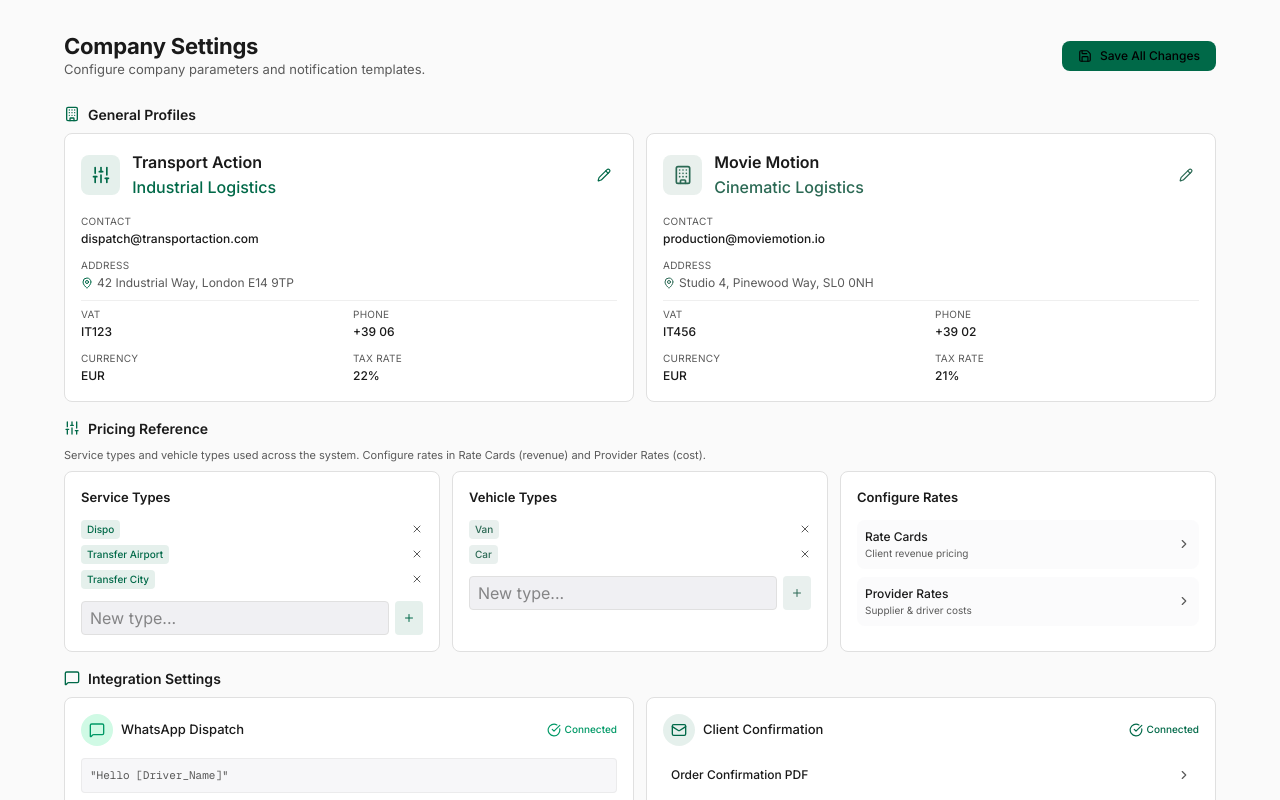
Test: CompanySettingsScreen › company edit modal closes on Cancel
This screenshot has width=1280, height=800.
expect the button "Save All Changes" is shown: met, box top-left (1062, 41), bottom-right (1216, 71)
What coordinates should you click on to do the following:
click the button with id "edit-profile-ta-btn"
I would click on:
 (604, 174)
Its box is top-left (591, 162), bottom-right (617, 188).
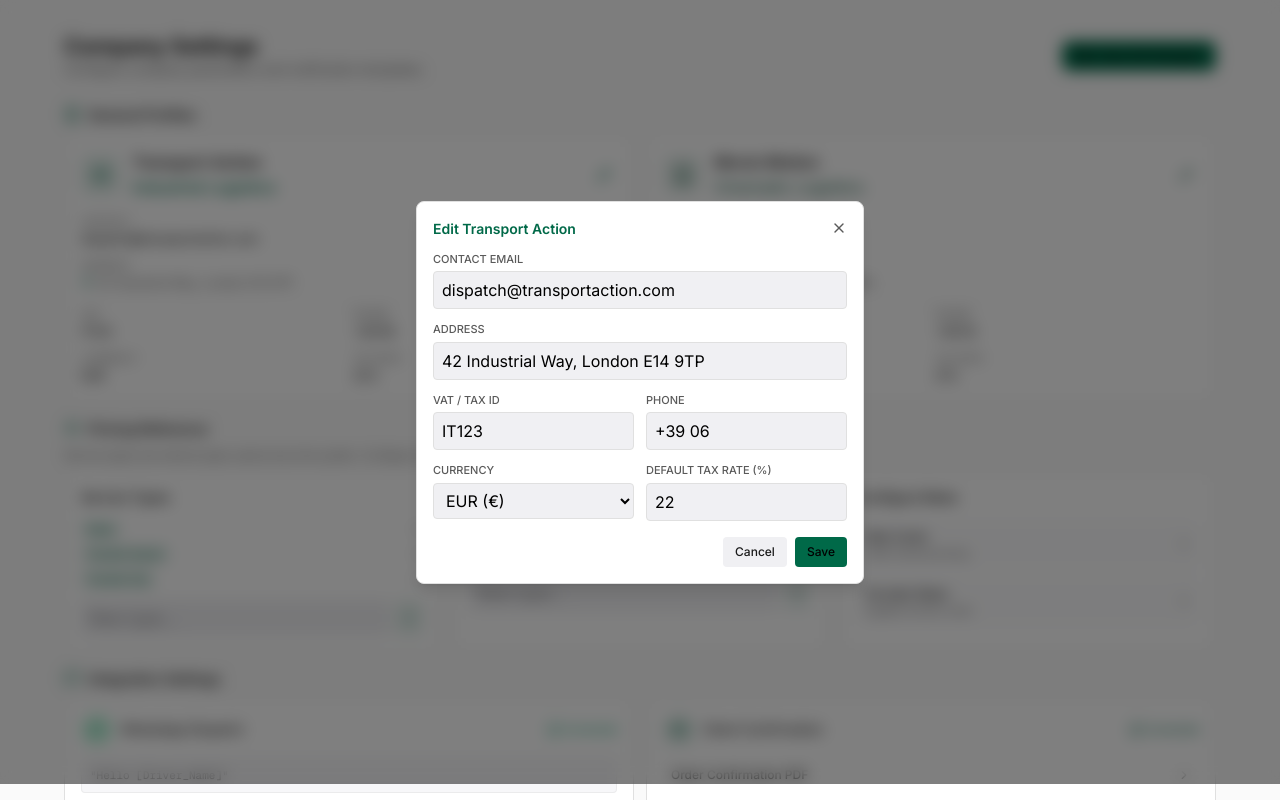
expect the heading "Edit Transport Action" is shown: met, box top-left (433, 218), bottom-right (576, 238)
What coordinates should you click on to do the following:
click the button "Cancel"
I would click on:
 (755, 552)
Its box is top-left (723, 536), bottom-right (787, 566).
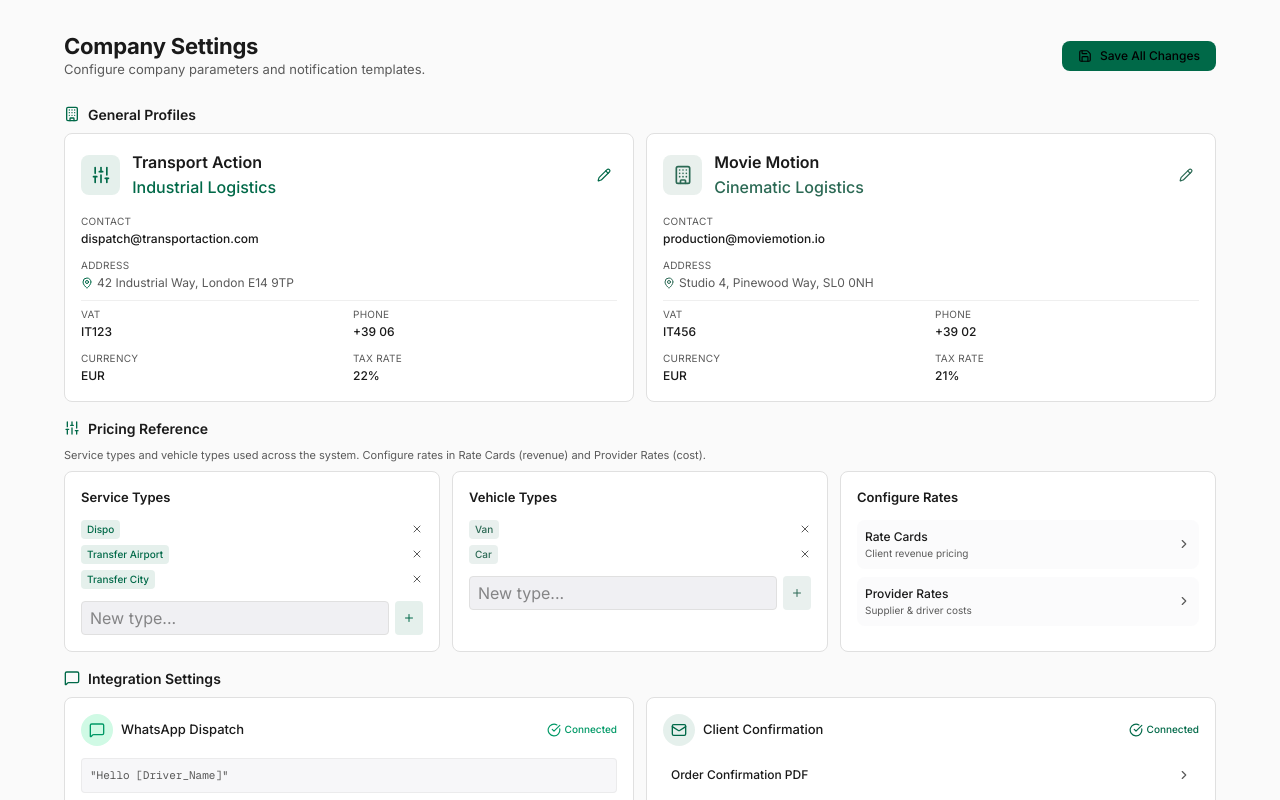
expect the heading "Edit Transport Action" is gone: met
